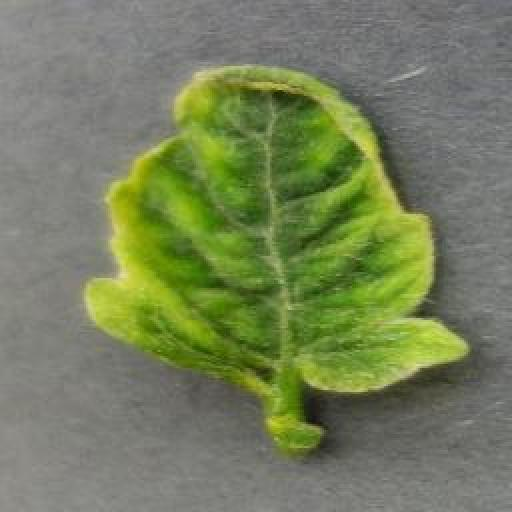Yellow Leaf Curl Virus: (83, 64, 470, 396)
